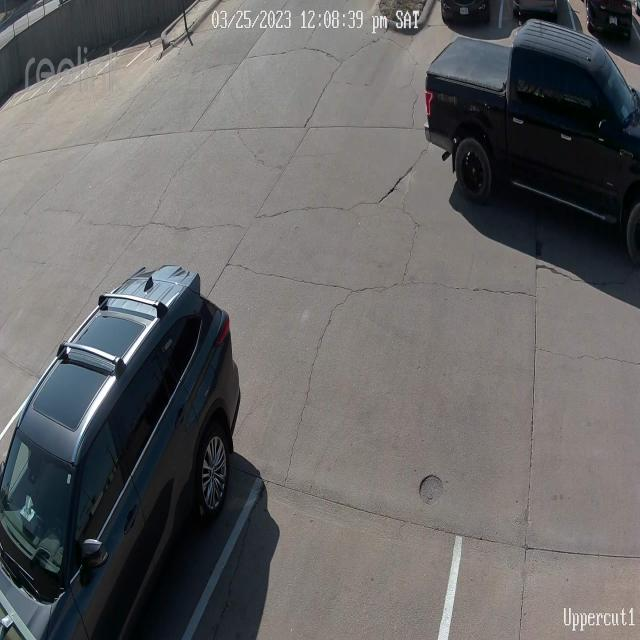Car: (426, 37, 640, 252)
Empty-slot: (188, 473, 461, 640), (441, 513, 640, 640), (2, 269, 76, 419)
Slot-Occupied: (0, 266, 239, 640), (584, 0, 638, 60), (439, 0, 501, 42), (515, 0, 569, 46)
